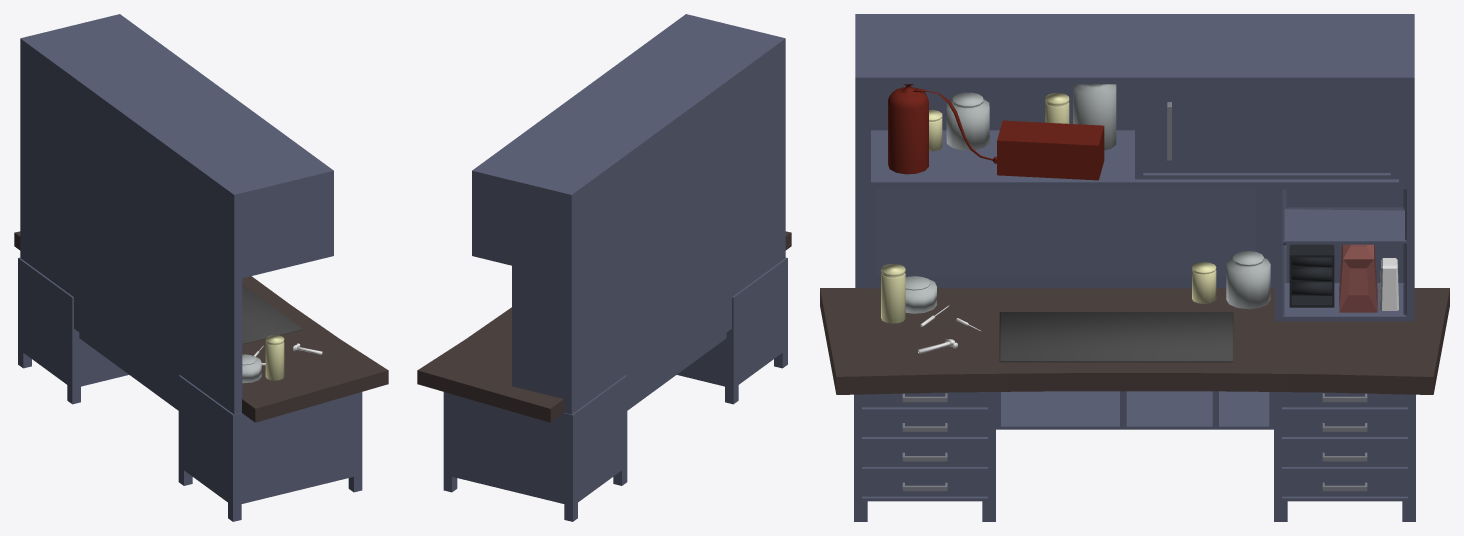
The model's file is BancoDeMejora.fbx.
3 views of the same model, side by side, from view 1: azimuth 30°, elevation 25°; view 2: azimuth 150°, elevation 25°; view 3: azimuth 270°, elevation 25° (orthographic). The views are drawn at different scales.
Visible parts, largest first — view 1: Pared, MesaBaja, Mesa, CajonR, Plancha, Frasco4, Cube.002, Frasco3; view 2: Pared, CajonR, MesaBaja, Mesa, Caja, Cube.002; view 3: Pared, Mesa, CajonR, MesaBaja, Caja, Plancha, Cube.002, Tanque, Rollos, Maquina, Frasco1, Frasco7 (+6 smaller).
Boxes of the visible parts, x1,y1,x2,y2 form: Pared: (20,14,333,414); MesaBaja: (178,375,362,521); Mesa: (14,231,388,422); CajonR: (18,257,128,404); Plancha: (242,284,302,344); Frasco4: (265,335,284,380); Cube.002: (79,333,178,410); Frasco3: (242,354,261,383); Pared: (472,14,785,414); CajonR: (443,375,627,521); MesaBaja: (677,257,787,404); Mesa: (417,231,791,422); Caja: (512,266,563,398); Cube.002: (627,333,726,410); Pared: (855,14,1414,288); Mesa: (820,288,1449,394); CajonR: (1274,392,1415,521); MesaBaja: (854,392,995,521); Caja: (1275,189,1414,321); Plancha: (999,312,1233,362); Cube.002: (996,391,1273,429); Tanque: (888,84,1104,180); Rollos: (1289,244,1334,307); Maquina: (1339,244,1377,312); Frasco1: (1226,251,1270,309); Frasco7: (946,92,989,150).
Size of the model in its own units: 203 by 426 by 570.
Materials: 8 (1 with a texture image).
